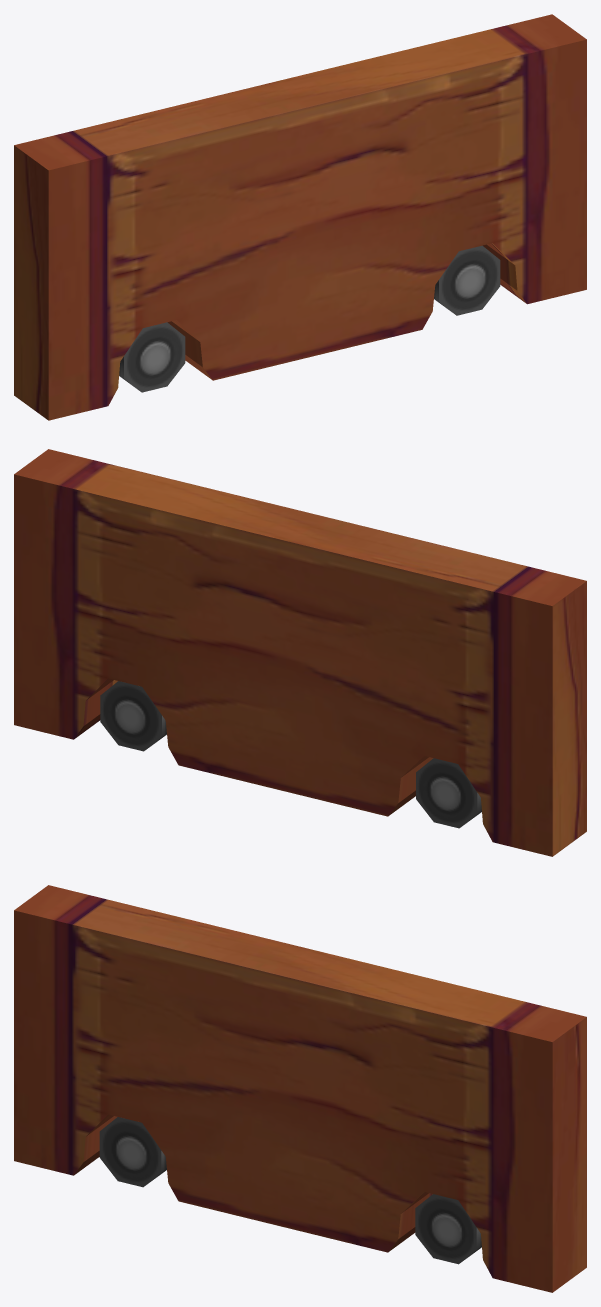
The model's file is dynamic_fence_wood_01.fbx.
3 views of the same model, one above another, from view 1: azimuth 30°, elevation 25°; view 2: azimuth 150°, elevation 25°; view 3: azimuth 330°, elevation 25° (orthographic).
Visible parts, largest first — view 1: dynamic_fence_wood_01; view 2: dynamic_fence_wood_01; view 3: dynamic_fence_wood_01.
Boxes of the visible parts, box(x1,y1,x2,y2) form: dynamic_fence_wood_01: box(14, 14, 586, 420); dynamic_fence_wood_01: box(14, 449, 586, 856); dynamic_fence_wood_01: box(14, 885, 586, 1292).
Size of the model in its own units: 90 by 40 by 10.13.
